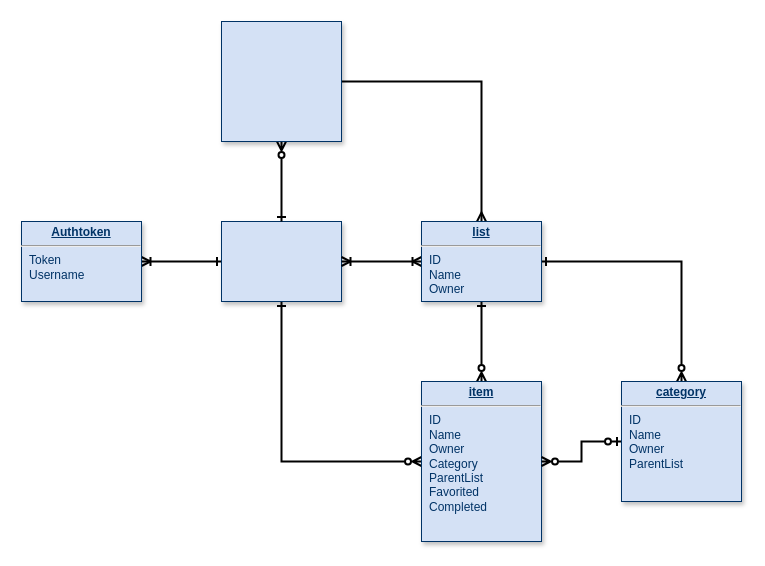
Some shapes in this 765 by 566 pixel diagram are drawn without their labels. The centre of each missing label's shape, as x and y in pixels:
recipe ID Name Owner Description Ingredients Steps: point 282,82
user ID Username Password: point 282,262
